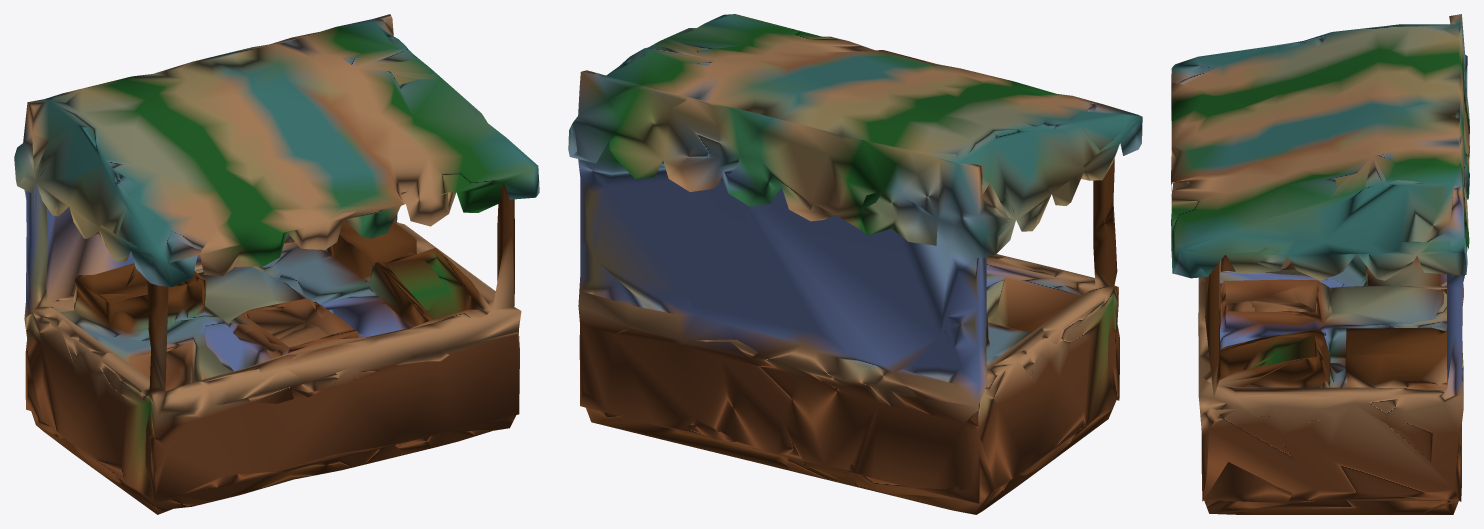
File: gen3d-market-stall-shop-lod0.glb
3 renders of one model, left to right at view 1: azimuth 30°, elevation 25°; view 2: azimuth 150°, elevation 25°; view 3: azimuth 270°, elevation 25°, orthographic. The views are drawn at different scales.
Parts seen in each view (by area): view 1: part_0; view 2: part_0; view 3: part_0.
Part boxes in pixels (box(x1,y1,x2,y2)): part_0: box(14, 14, 539, 514); part_0: box(568, 14, 1142, 514); part_0: box(1171, 14, 1469, 514).
Size of the model in its own units: 1.26 by 1 by 0.8302.
